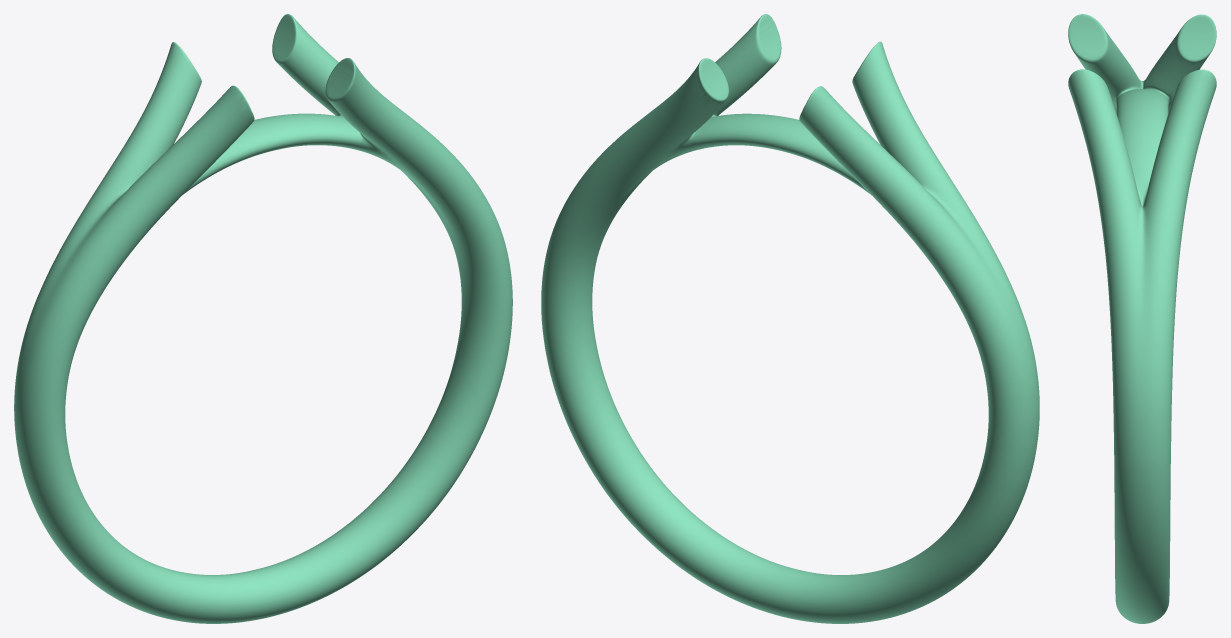
3 renders of one model, left to right at view 1: azimuth 30°, elevation 25°; view 2: azimuth 150°, elevation 25°; view 3: azimuth 270°, elevation 25°, orthographic.
Parts seen in each view (by area): view 1: Metal02; view 2: Metal02; view 3: Metal02.
Boxes of the visible parts, <box> form: Metal02: <box>14,14,512,623</box>; Metal02: <box>541,14,1039,623</box>; Metal02: <box>1068,14,1216,623</box>.
Size of the model in its own units: 20.91 by 23.05 by 5.57.
